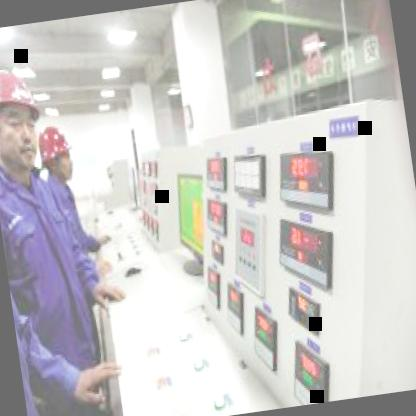helmet: (0, 56, 48, 179), (33, 117, 79, 189)
